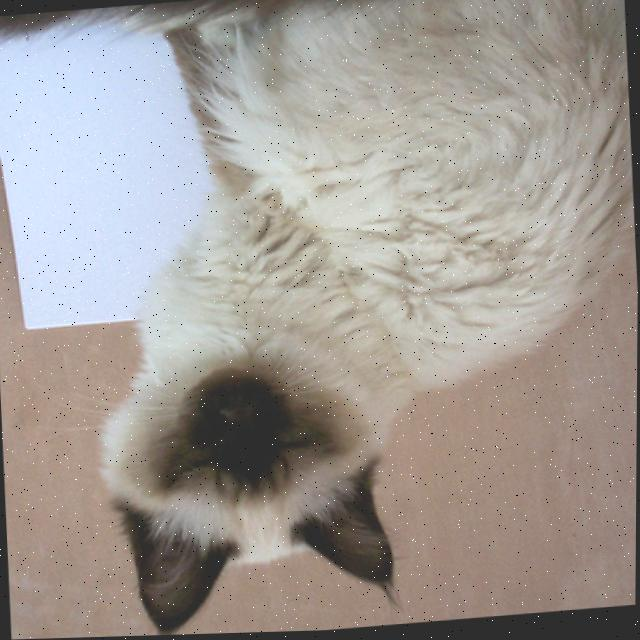Birman: (68, 0, 640, 638)
